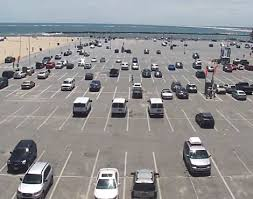car: (16, 162, 57, 199), (179, 137, 214, 175), (6, 139, 43, 172), (129, 167, 162, 199), (96, 166, 120, 199), (109, 95, 131, 120), (73, 94, 93, 121), (193, 110, 217, 131), (146, 97, 167, 118), (131, 81, 145, 102), (235, 79, 253, 95), (61, 77, 76, 93), (212, 81, 227, 97), (232, 88, 248, 102), (159, 87, 176, 100), (174, 87, 191, 100), (89, 80, 103, 94), (186, 81, 201, 94), (21, 80, 38, 90), (222, 83, 236, 95), (169, 78, 182, 90)
